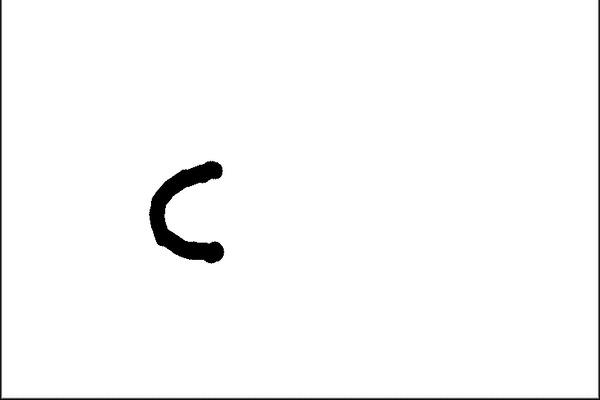C: (143, 155, 234, 266)
